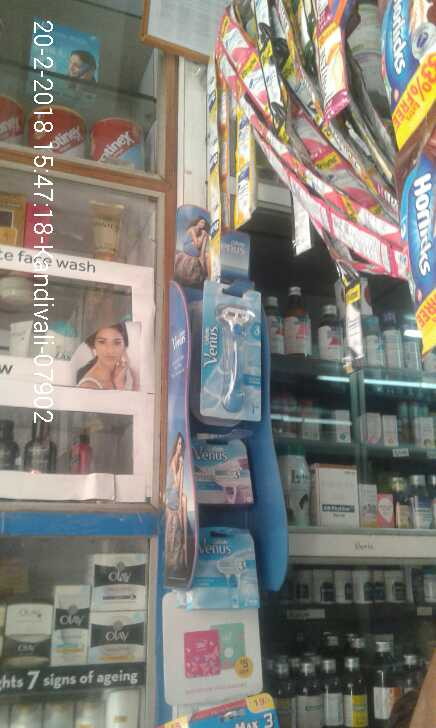beauty: (198, 279, 263, 423), (192, 527, 262, 609), (188, 437, 255, 507), (92, 556, 147, 611), (54, 586, 91, 665), (92, 613, 144, 662), (7, 604, 56, 640), (3, 644, 55, 674)
